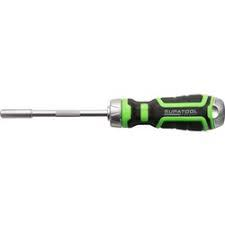screwdriver: (0, 92, 223, 131)
